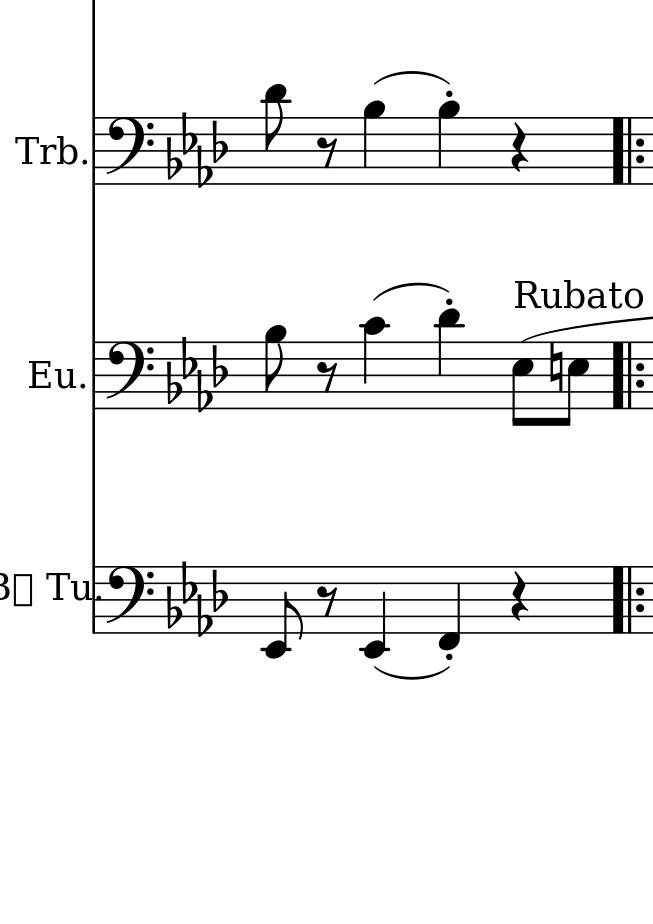4_-1: (439, 564, 463, 653)
4_-2: (357, 563, 388, 660)
4_10: (360, 316, 394, 413)
4_11: (436, 308, 465, 414)
4_9: (362, 99, 387, 189), (436, 99, 462, 185)
8_-2: (260, 562, 305, 658)
8_11: (263, 84, 289, 186)
8_5: (557, 341, 591, 431), (510, 341, 536, 430)
8_9: (264, 325, 290, 411)
A_F: (165, 112, 230, 187), (165, 335, 226, 411), (165, 558, 223, 635)
Fclef: (103, 342, 157, 413), (103, 116, 155, 186), (103, 568, 153, 626)
LeftRepeatSign: (609, 565, 647, 636), (611, 116, 649, 186), (611, 342, 647, 410)
Natural: (548, 335, 564, 394)
Rests4: (510, 123, 532, 178), (510, 571, 528, 623)
Rests8: (317, 581, 340, 620), (318, 133, 340, 170), (314, 359, 338, 392)
Single_barline: (87, 340, 102, 412), (87, 118, 102, 186), (89, 566, 103, 634)
Slur: (373, 281, 455, 298), (373, 70, 453, 87), (375, 667, 449, 680)
Trb: (15, 128, 78, 171)
